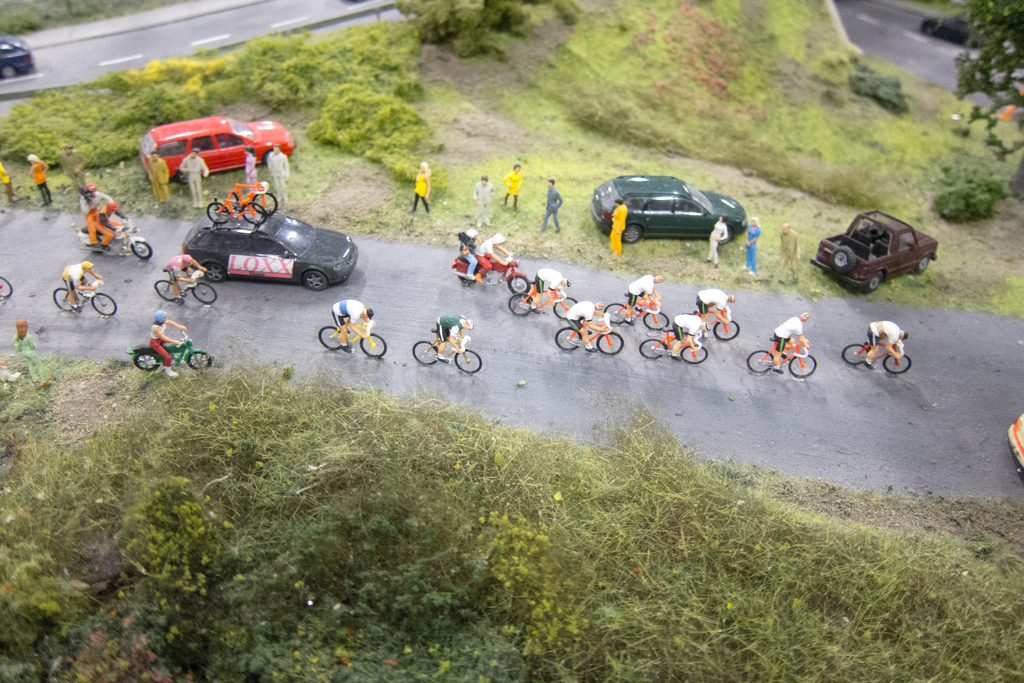Car: (188, 210, 357, 288), (605, 166, 748, 247), (142, 118, 295, 182), (807, 212, 937, 287), (0, 39, 28, 80)
